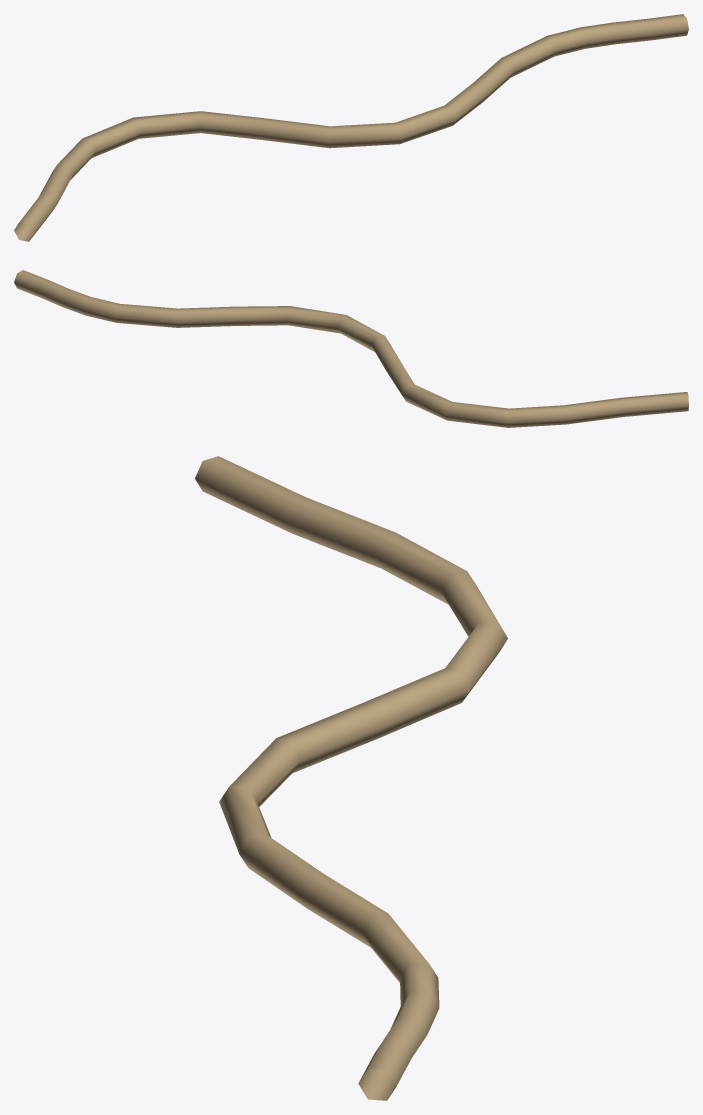
The model's file is cord-working-length.glb.
The picture shows the model from 3 angles, top to bottom: view 1: azimuth 30°, elevation 25°; view 2: azimuth 150°, elevation 25°; view 3: azimuth 270°, elevation 25°; orthographic projection. The views are drawn at different scales.
Parts seen in each view (by area): view 1: cord-working-length runtime mesh; view 2: cord-working-length runtime mesh; view 3: cord-working-length runtime mesh.
Part boxes in pixels (x1,y1,x2,y2): cord-working-length runtime mesh: (14,14,688,241); cord-working-length runtime mesh: (14,270,688,427); cord-working-length runtime mesh: (195,456,507,1100).
Size of the model in its own units: 0.5252 by 0.0121 by 0.1127.
